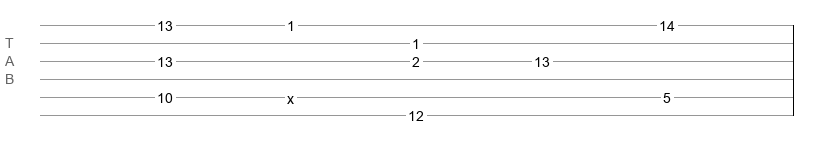1: (287, 18, 295, 28), (412, 36, 420, 46)
10: (157, 90, 173, 100)
12: (408, 108, 424, 118)
13: (157, 54, 173, 64), (157, 18, 173, 28), (534, 54, 550, 64)
14: (659, 18, 675, 28)
2: (412, 54, 420, 64)
5: (663, 90, 671, 100)
x: (287, 91, 294, 99)
